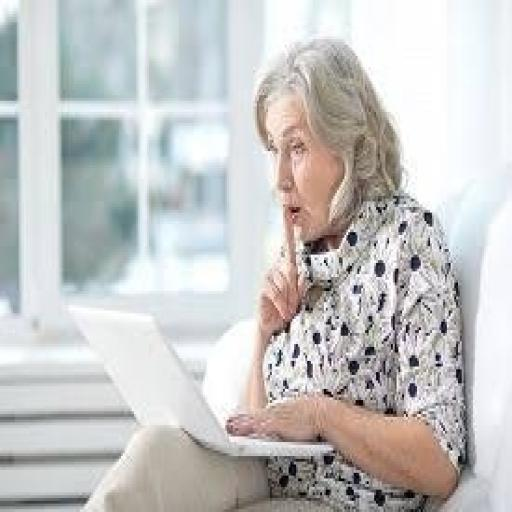using_laptop: (67, 299, 335, 462)
